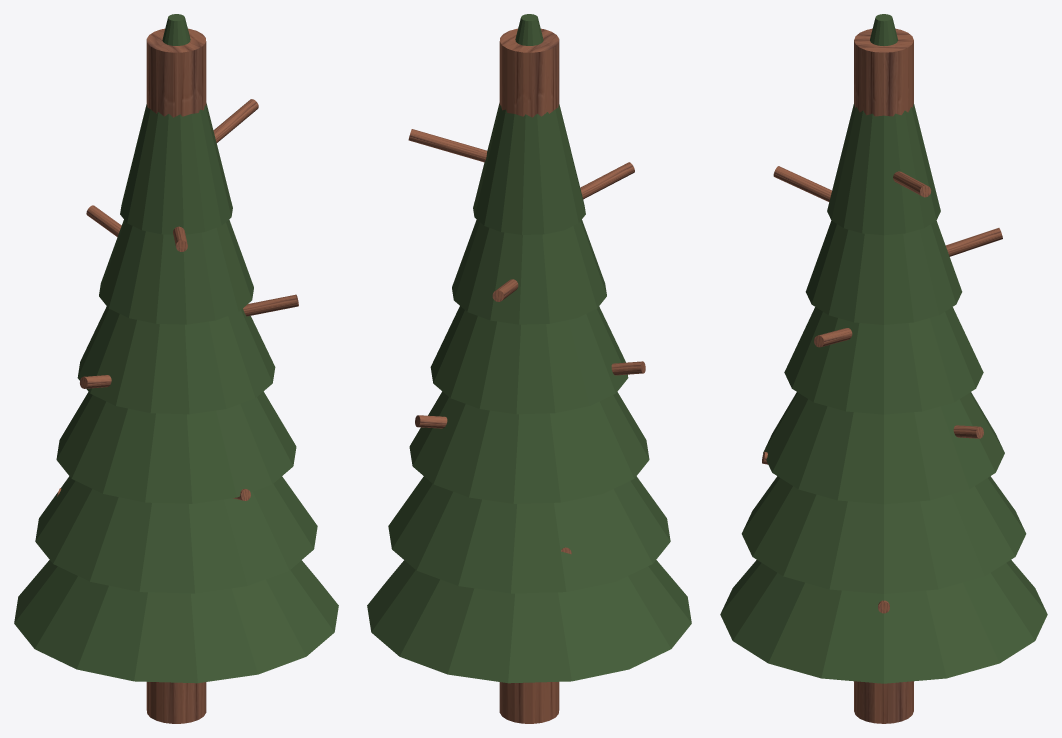
Rendered from falling_tree.glb.
3 renders of one model, left to right at view 1: azimuth 30°, elevation 25°; view 2: azimuth 150°, elevation 25°; view 3: azimuth 270°, elevation 25°, orthographic.
Parts seen in each view (by area): view 1: needle crown, bark trunk; view 2: needle crown, bark trunk; view 3: needle crown, bark trunk.
Boxes of the visible parts, x1,y1,x2,y2 form: needle crown: (14,14,338,683); bark trunk: (57,28,298,723); needle crown: (367,14,691,683); bark trunk: (408,28,645,723); needle crown: (720,14,1047,683); bark trunk: (762,28,1002,723).
Size of the model in its own units: 4.6 by 10.75 by 4.6.
Materials: 2 (1 with a texture image).
